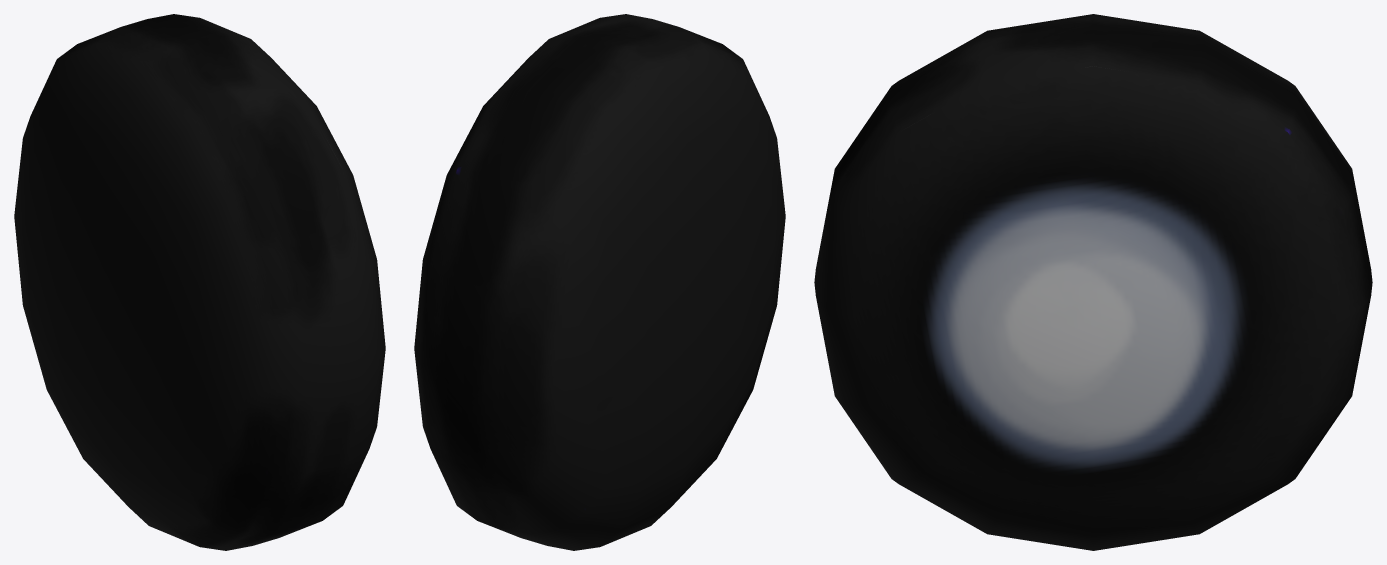
Rendered from mothman_mobile_backwheel.fbx.
3 renders of one model, left to right at view 1: azimuth 30°, elevation 25°; view 2: azimuth 150°, elevation 25°; view 3: azimuth 270°, elevation 25°, orthographic. The views are drawn at different scales.
Visible parts, largest first — view 1: Plane.021; view 2: Plane.021; view 3: Plane.021.
Part boxes in pixels (<box>): Plane.021: <box>14,14,385,550</box>; Plane.021: <box>414,14,785,550</box>; Plane.021: <box>814,14,1372,550</box>.
Bounding box in the file's own units: 447 × 447 × 193.
